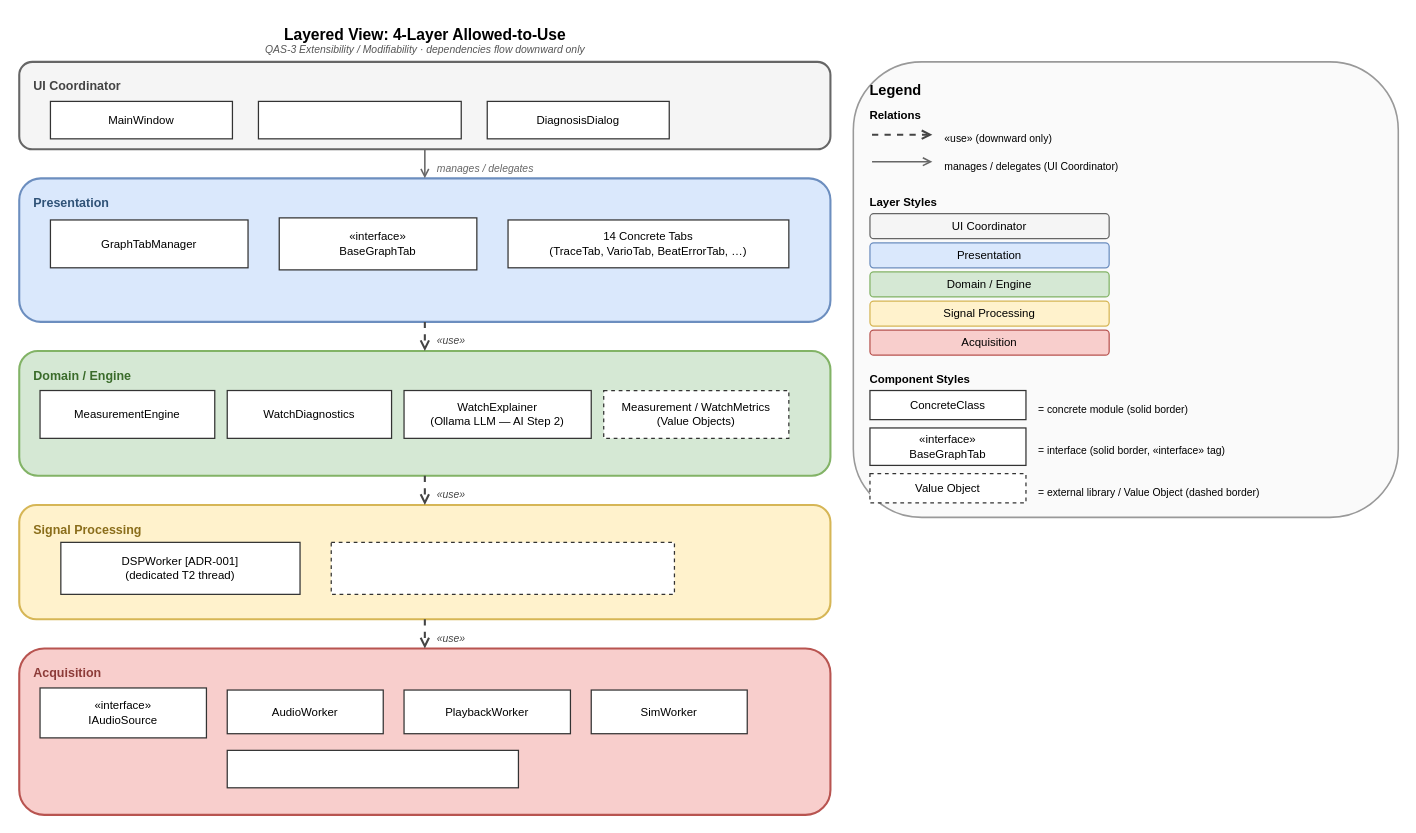
This 1416x833 diagram has some shape labels left out. The shapes that lost their labels are listed below. From the top down, each one's centre as x and y in pixels, then its label:
At point (359, 119): "SessionController".
At point (502, 567): "tg_process (external library) FilterChain (LP/HP) · BeatDetector".
At point (372, 768): "AudioRingBuffer (lock-free SPSC)".
